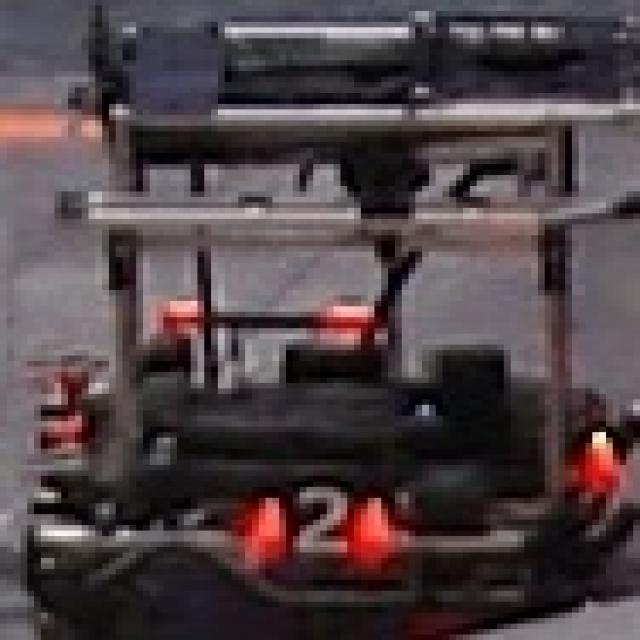R2: (245, 476, 388, 558)
